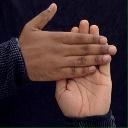hand: (19, 3, 116, 81), (55, 20, 112, 117)
